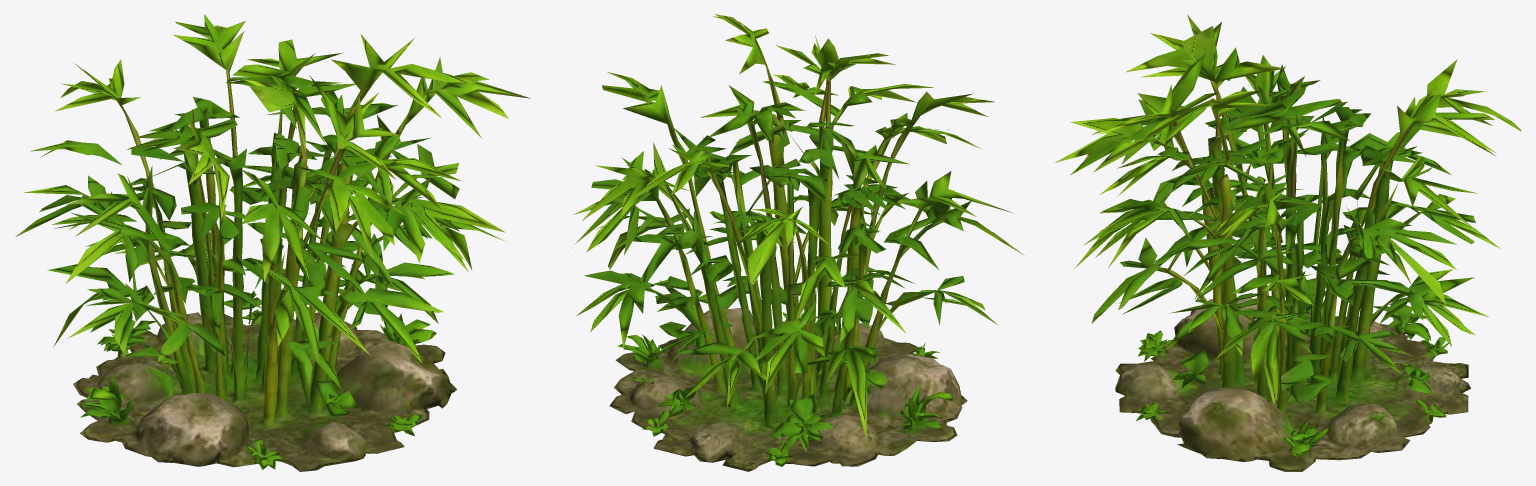
File: semak-2.glb
3 views of the same model, side by side, from view 1: azimuth 30°, elevation 25°; view 2: azimuth 150°, elevation 25°; view 3: azimuth 270°, elevation 25° (orthographic). The views are drawn at different scales.
Parts seen in each view (by area): view 1: pohon; view 2: pohon; view 3: pohon.
Part boxes in pixels (bbox=[...]): pohon: bbox=[15, 14, 530, 471]; pohon: bbox=[568, 14, 1024, 471]; pohon: bbox=[1055, 14, 1521, 471].
Bounding box in the file's own units: 0.949 × 0.707 × 0.8769.
1 material, 1 textured.
